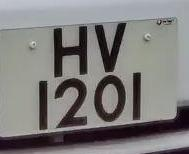0: (92, 73, 130, 127)
1: (29, 75, 55, 135), (127, 67, 147, 124)
2: (48, 71, 92, 133)
H: (46, 19, 93, 81)
V: (91, 18, 135, 79)
